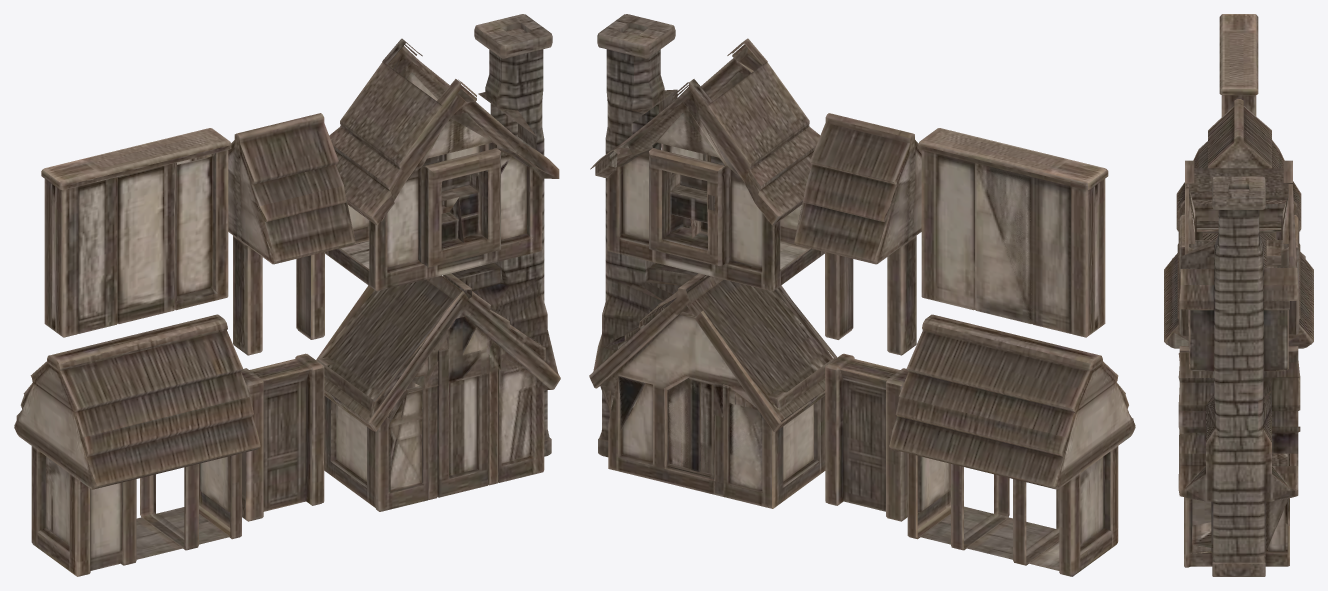
File: village_timbered.glb
3 renders of one model, left to right at view 1: azimuth 30°, elevation 25°; view 2: azimuth 150°, elevation 25°; view 3: azimuth 270°, elevation 25°, orthographic. The views are drawn at different scales.
Size of the model in its own units: 1.91 by 1.57 by 0.5597.
Materials: 1 (1 with a texture image).
